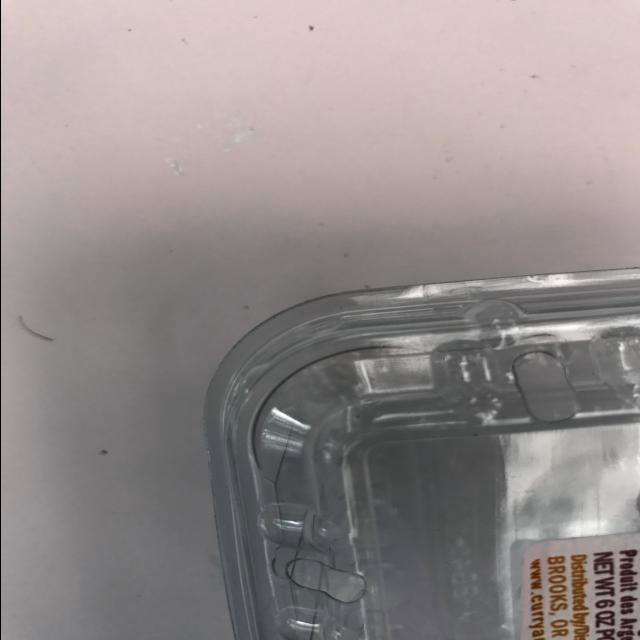plastic: (161, 212, 640, 640)
